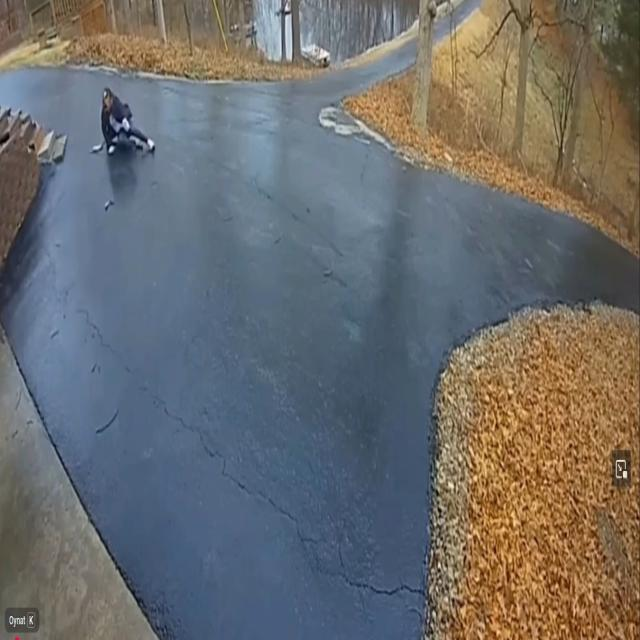fallen: (101, 87, 154, 153)
